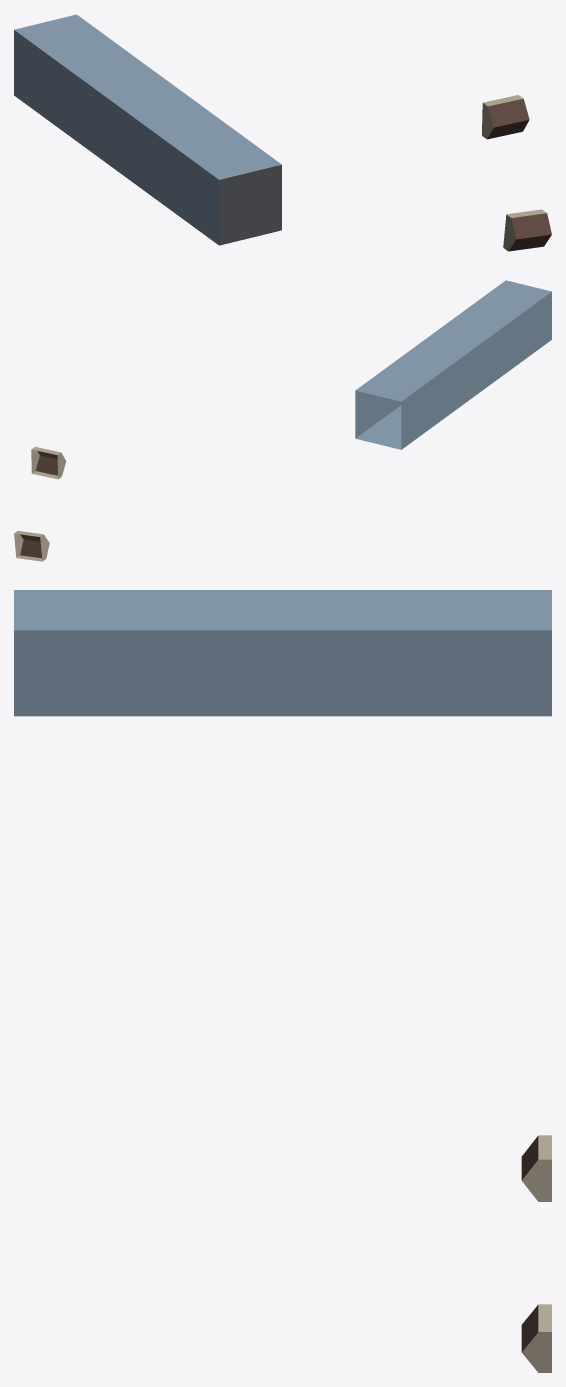
Rendered from island_bldg_12_06.obj.
The picture shows the model from 3 angles, top to bottom: view 1: azimuth 30°, elevation 25°; view 2: azimuth 150°, elevation 25°; view 3: azimuth 270°, elevation 25°; orthographic projection. The views are drawn at different scales.
Parts seen in each view (by area): view 1: island_bldg_12_06; view 2: island_bldg_12_06; view 3: island_bldg_12_06.
Boxes of the visible parts, <box> form: island_bldg_12_06: <box>14,14,551,251</box>; island_bldg_12_06: <box>14,280,551,561</box>; island_bldg_12_06: <box>14,590,551,1372</box>.
Bounding box in the file's own units: 235 × 145 × 158.
